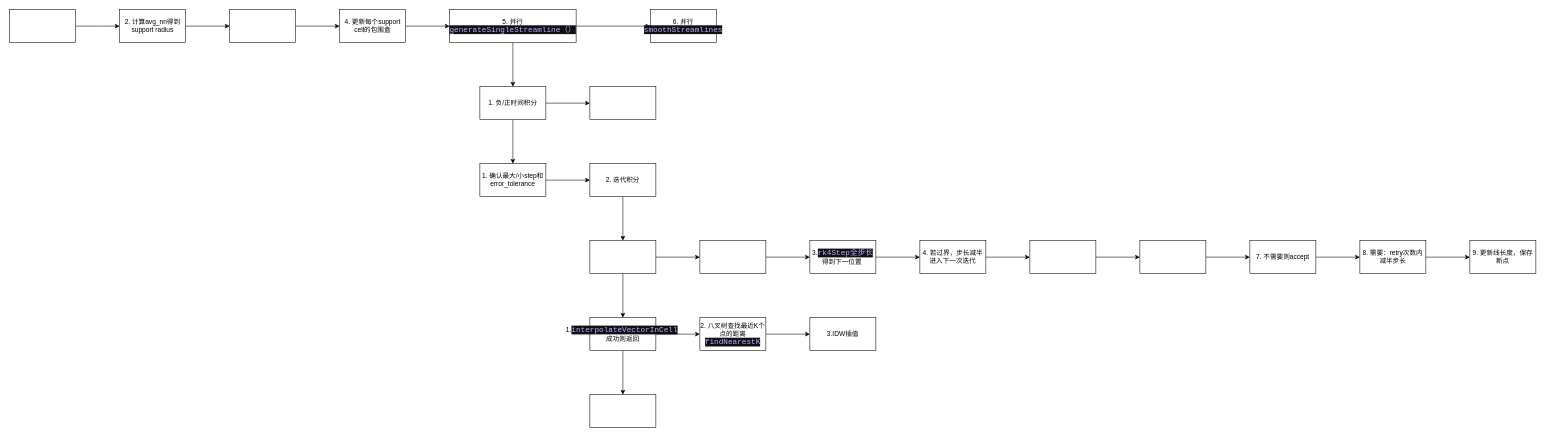
This 1546x437 diagram has some shape labels left out. Each missing label, with the box of its shape:
1. interpolateVectorh 获取当前点速度: (589, 240, 656, 274)
1. 更新整个网格的包围盒，建树: (9, 9, 76, 43)
2. 判断边界停止（速度过小、长度超限）: (699, 240, 766, 274)
2. 合并: (589, 86, 656, 120)
3. 更新所有vertex_to_supported_cell: (229, 9, 296, 43)
5. 缓存新位置， interpolateVector 获得新位置的速度: (1029, 240, 1096, 274)
6. 根据新旧速度差异判断是否需要细化步长: (1139, 240, 1206, 274)
